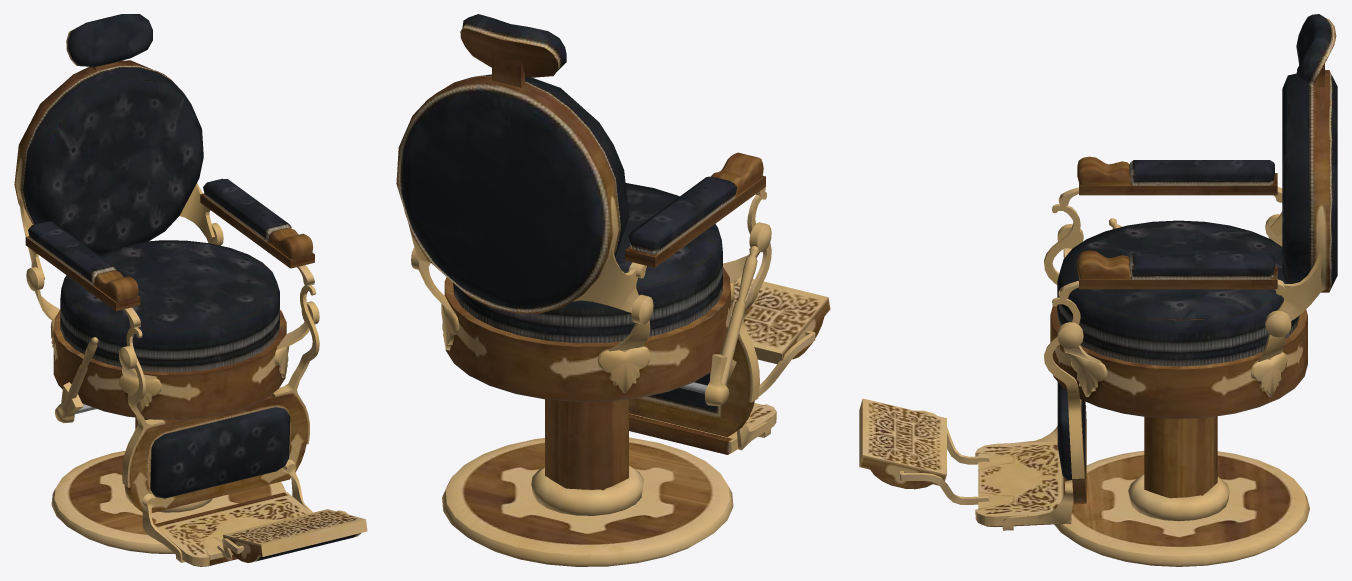
File: BarberShopChair_01.glb
3 views of the same model, side by side, from view 1: azimuth 30°, elevation 25°; view 2: azimuth 150°, elevation 25°; view 3: azimuth 270°, elevation 25° (orthographic). The views are drawn at different scales.
Visible parts, largest first — view 1: BarberShopChair_01; view 2: BarberShopChair_01; view 3: BarberShopChair_01.
Boxes of the visible parts, x1,y1,x2,y2 form: BarberShopChair_01: (14,14,367,566); BarberShopChair_01: (396,14,830,566); BarberShopChair_01: (859,14,1337,566).
Size of the model in its own units: 0.7566 by 1.49 by 1.33.
1 material, 1 textured.
